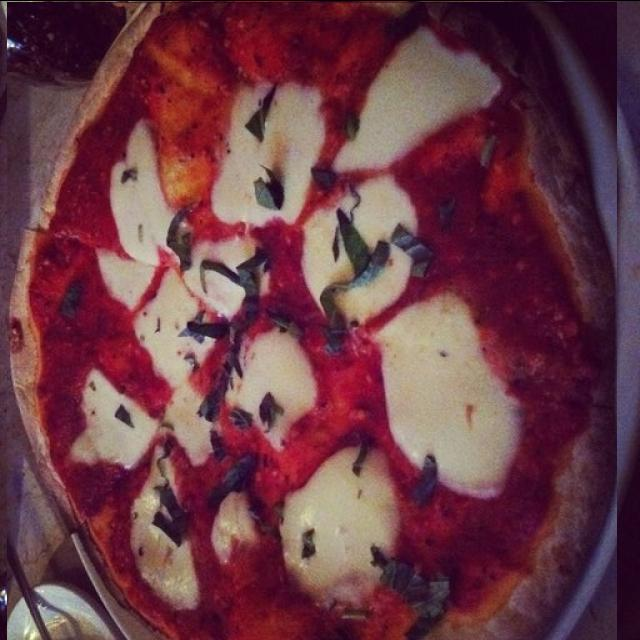pizza: (7, 1, 617, 640)
